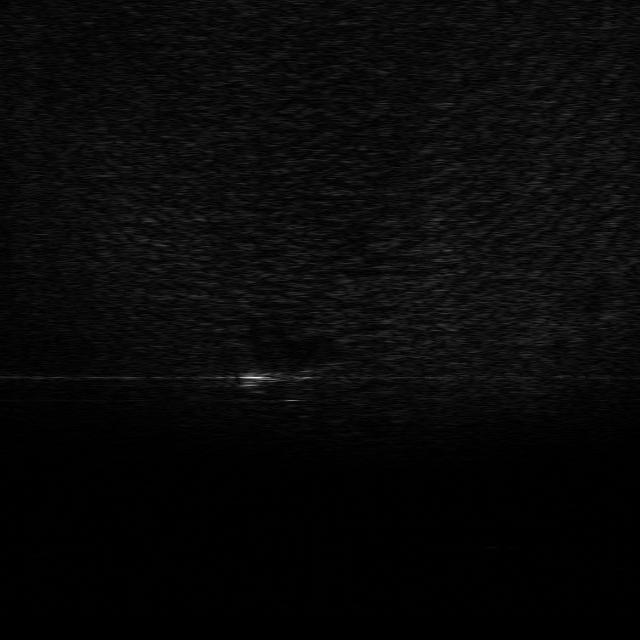plane: (234, 350, 328, 401)
